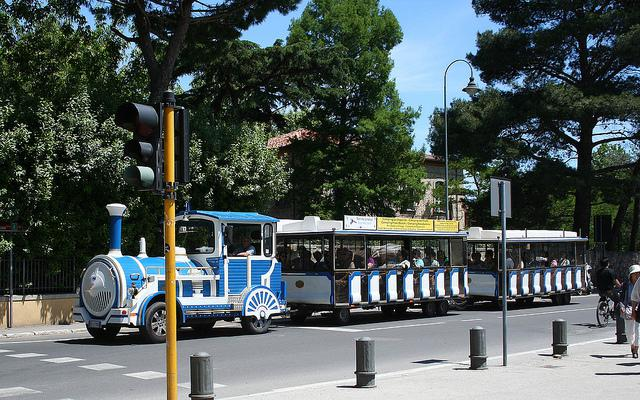Train: (73, 204, 591, 344)
